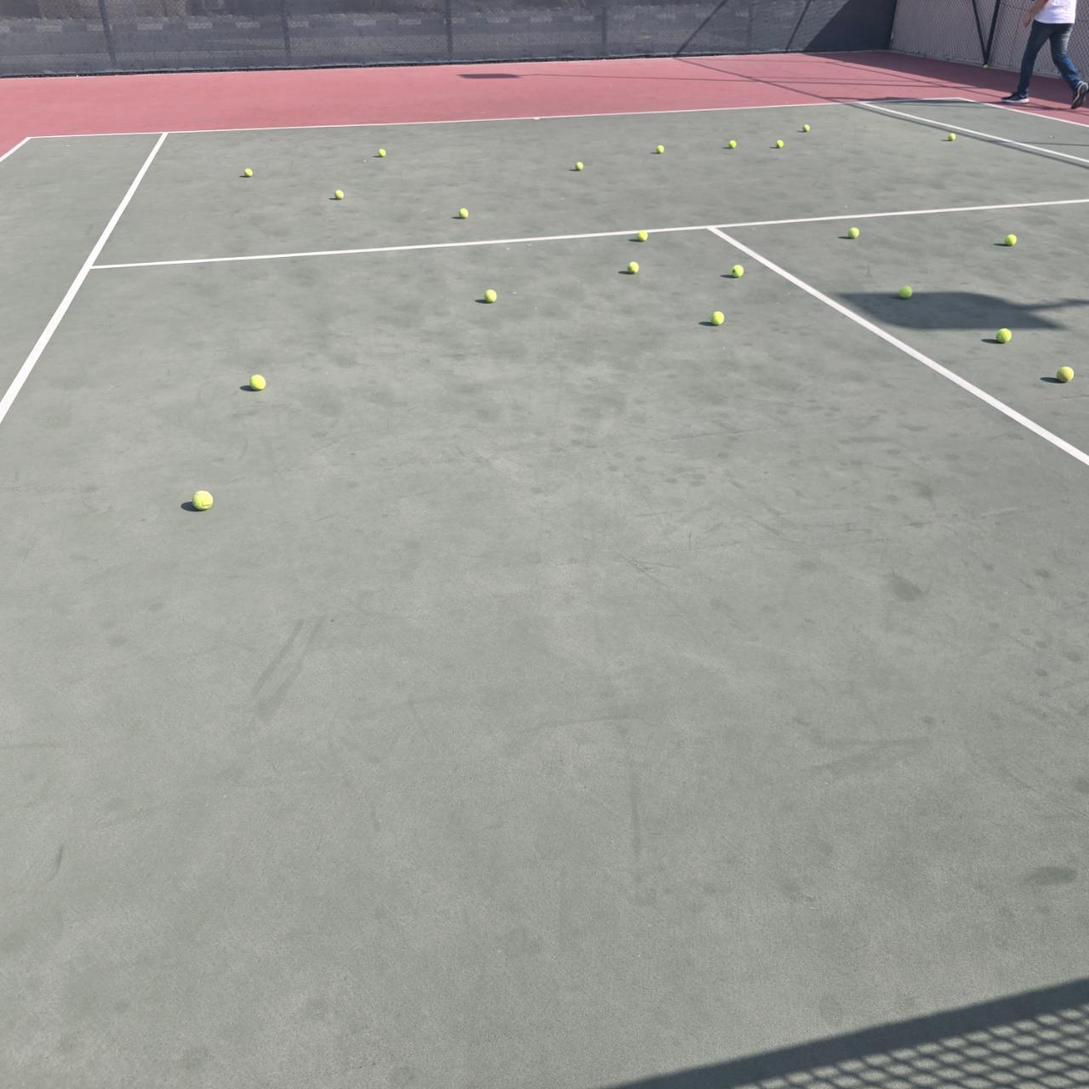tennis-ball: (191, 487, 214, 510), (248, 372, 266, 391), (1056, 364, 1074, 382), (995, 327, 1012, 344), (710, 309, 724, 325), (898, 285, 912, 299), (484, 287, 497, 302), (731, 264, 744, 279), (627, 261, 639, 275), (637, 230, 649, 242), (848, 227, 860, 239), (1005, 234, 1017, 246), (458, 208, 469, 219), (334, 189, 344, 200), (574, 161, 584, 172), (244, 168, 254, 178), (378, 148, 387, 158), (728, 140, 737, 149), (775, 140, 784, 149), (656, 144, 664, 154), (948, 132, 956, 141), (803, 124, 810, 132), (983, 64, 988, 69)
